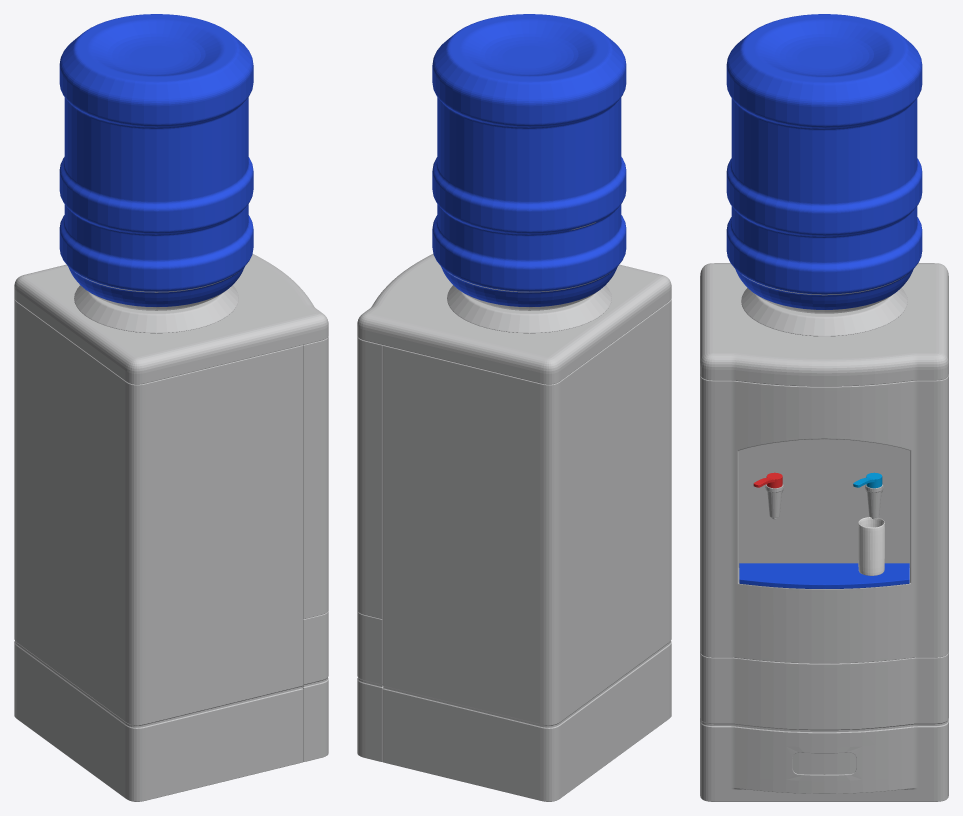
File: WaterDispenser.dae
3 renders of one model, left to right at view 1: azimuth 30°, elevation 25°; view 2: azimuth 150°, elevation 25°; view 3: azimuth 270°, elevation 25°, orthographic.
Parts seen in each view (by area): view 1: Modren water cooler; view 2: Modren water cooler; view 3: Modren water cooler.
Boxes of the visible parts, x1=… form: Modren water cooler: x1=14, y1=14, x2=328, y2=801; Modren water cooler: x1=357, y1=14, x2=671, y2=801; Modren water cooler: x1=700, y1=14, x2=948, y2=801.
Size of the model in its own units: 0.5019 by 0.5 by 1.54.
